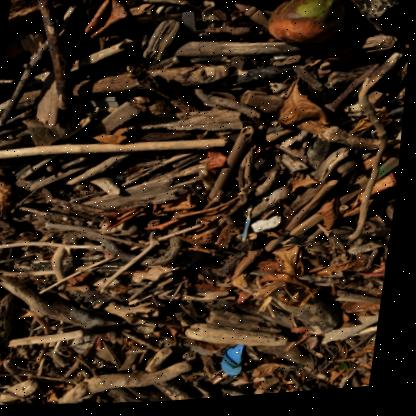Plastic: (228, 348, 250, 379), (247, 207, 256, 245)
Waste: (255, 220, 286, 236)
